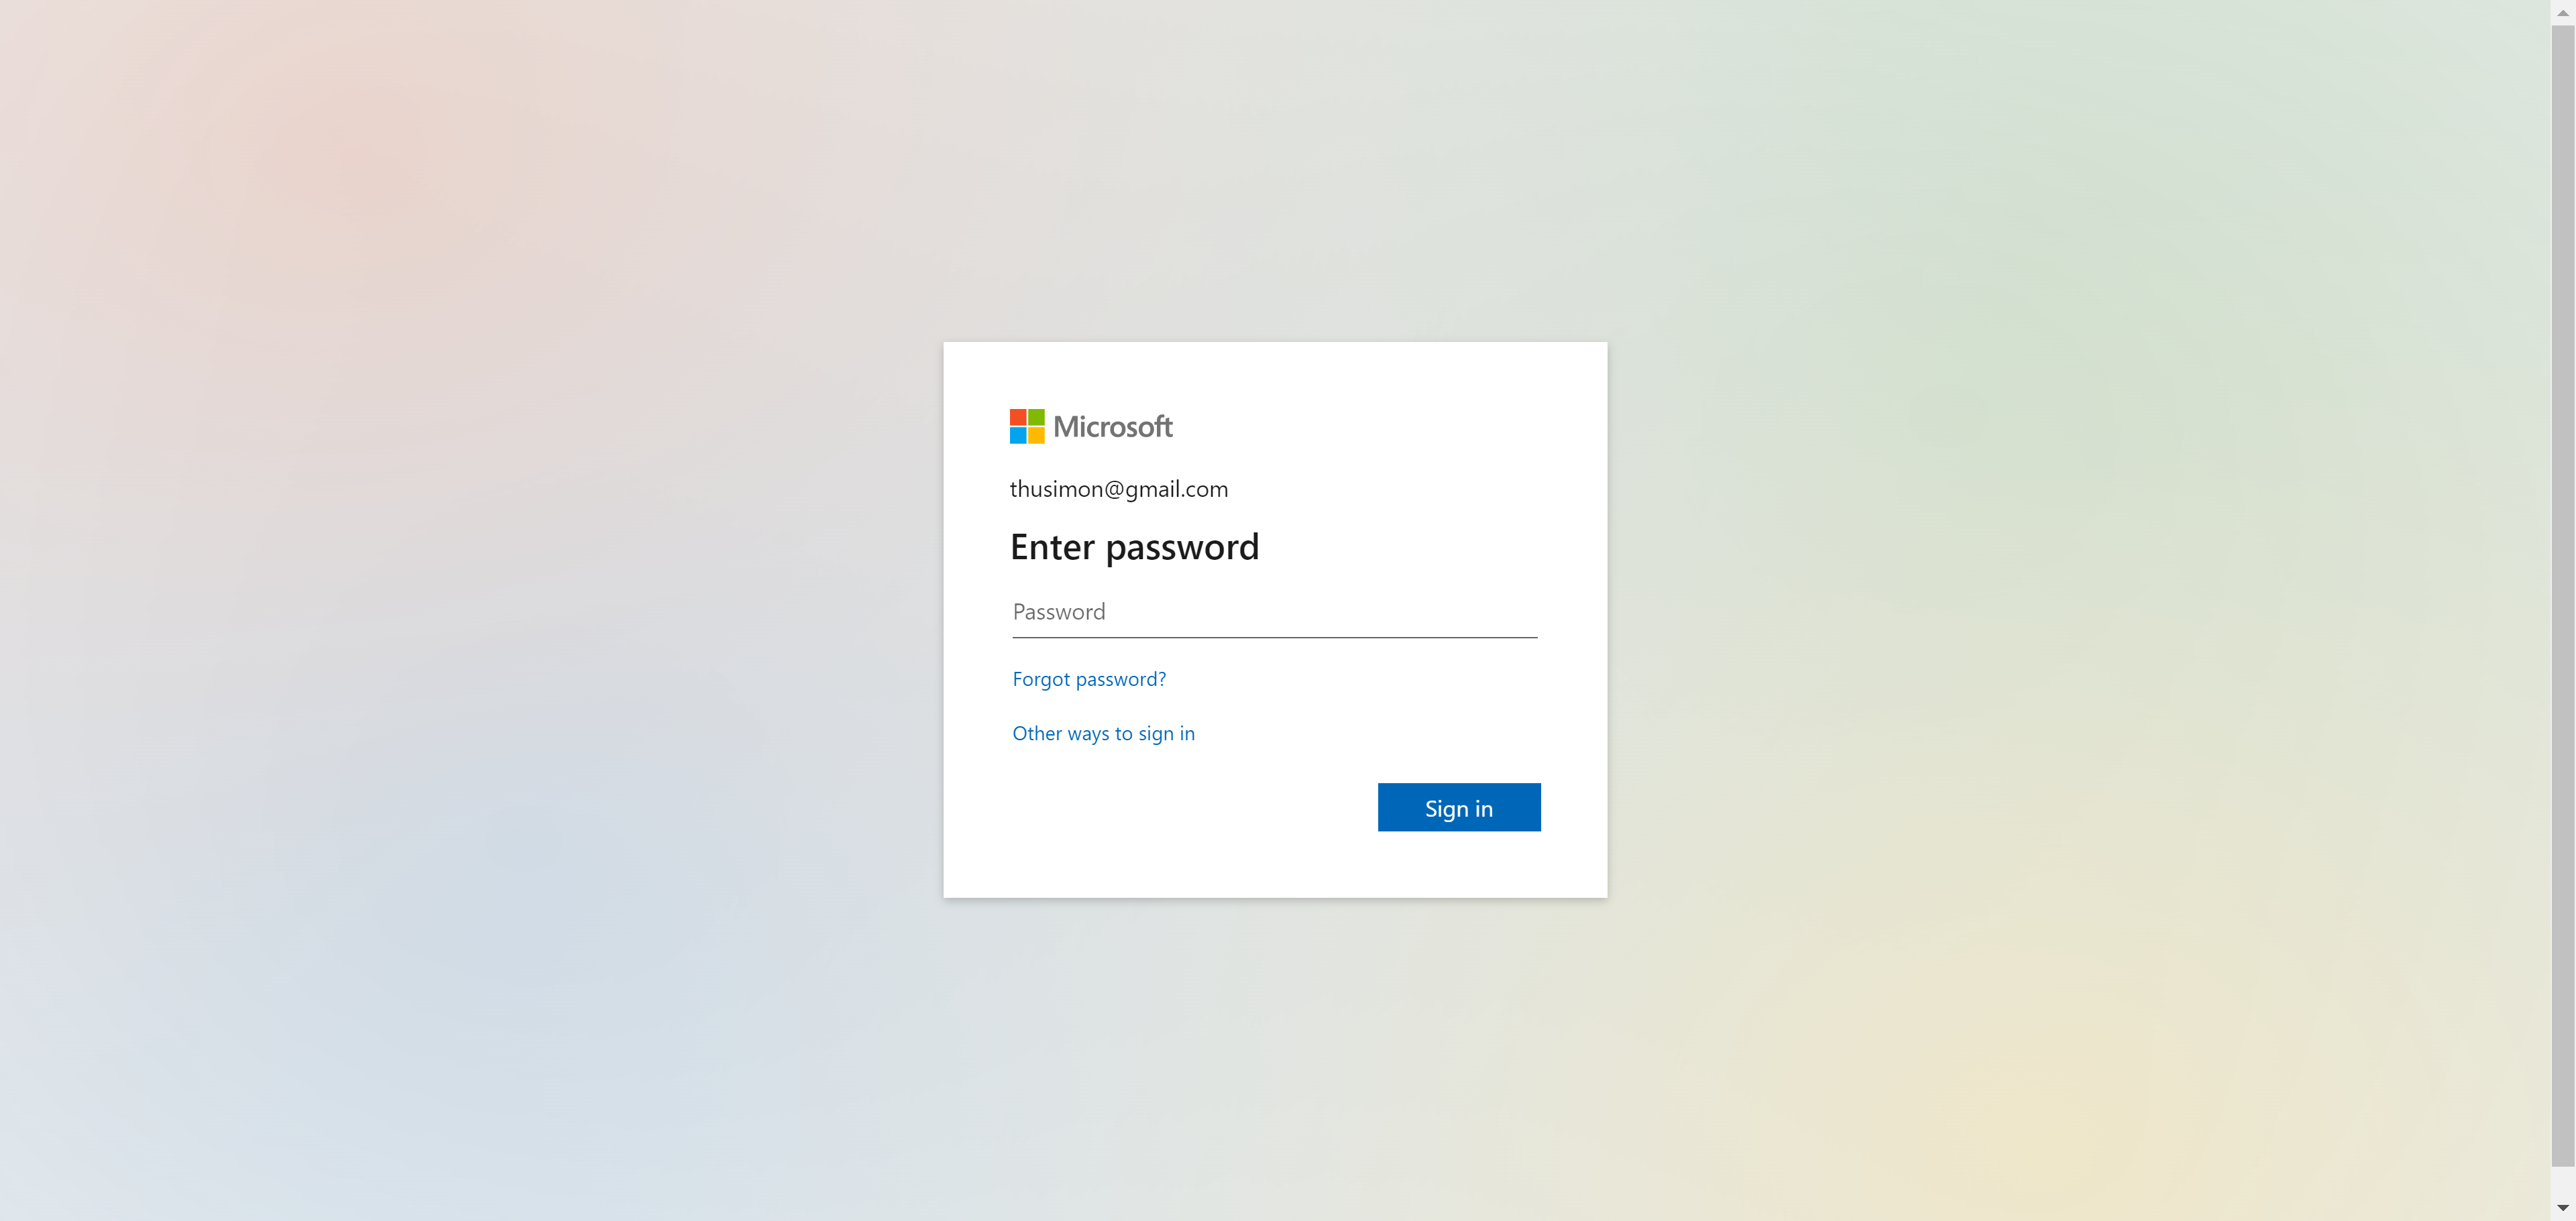login_button: (1378, 784, 1541, 832)
login_form: (1002, 587, 1552, 846)
